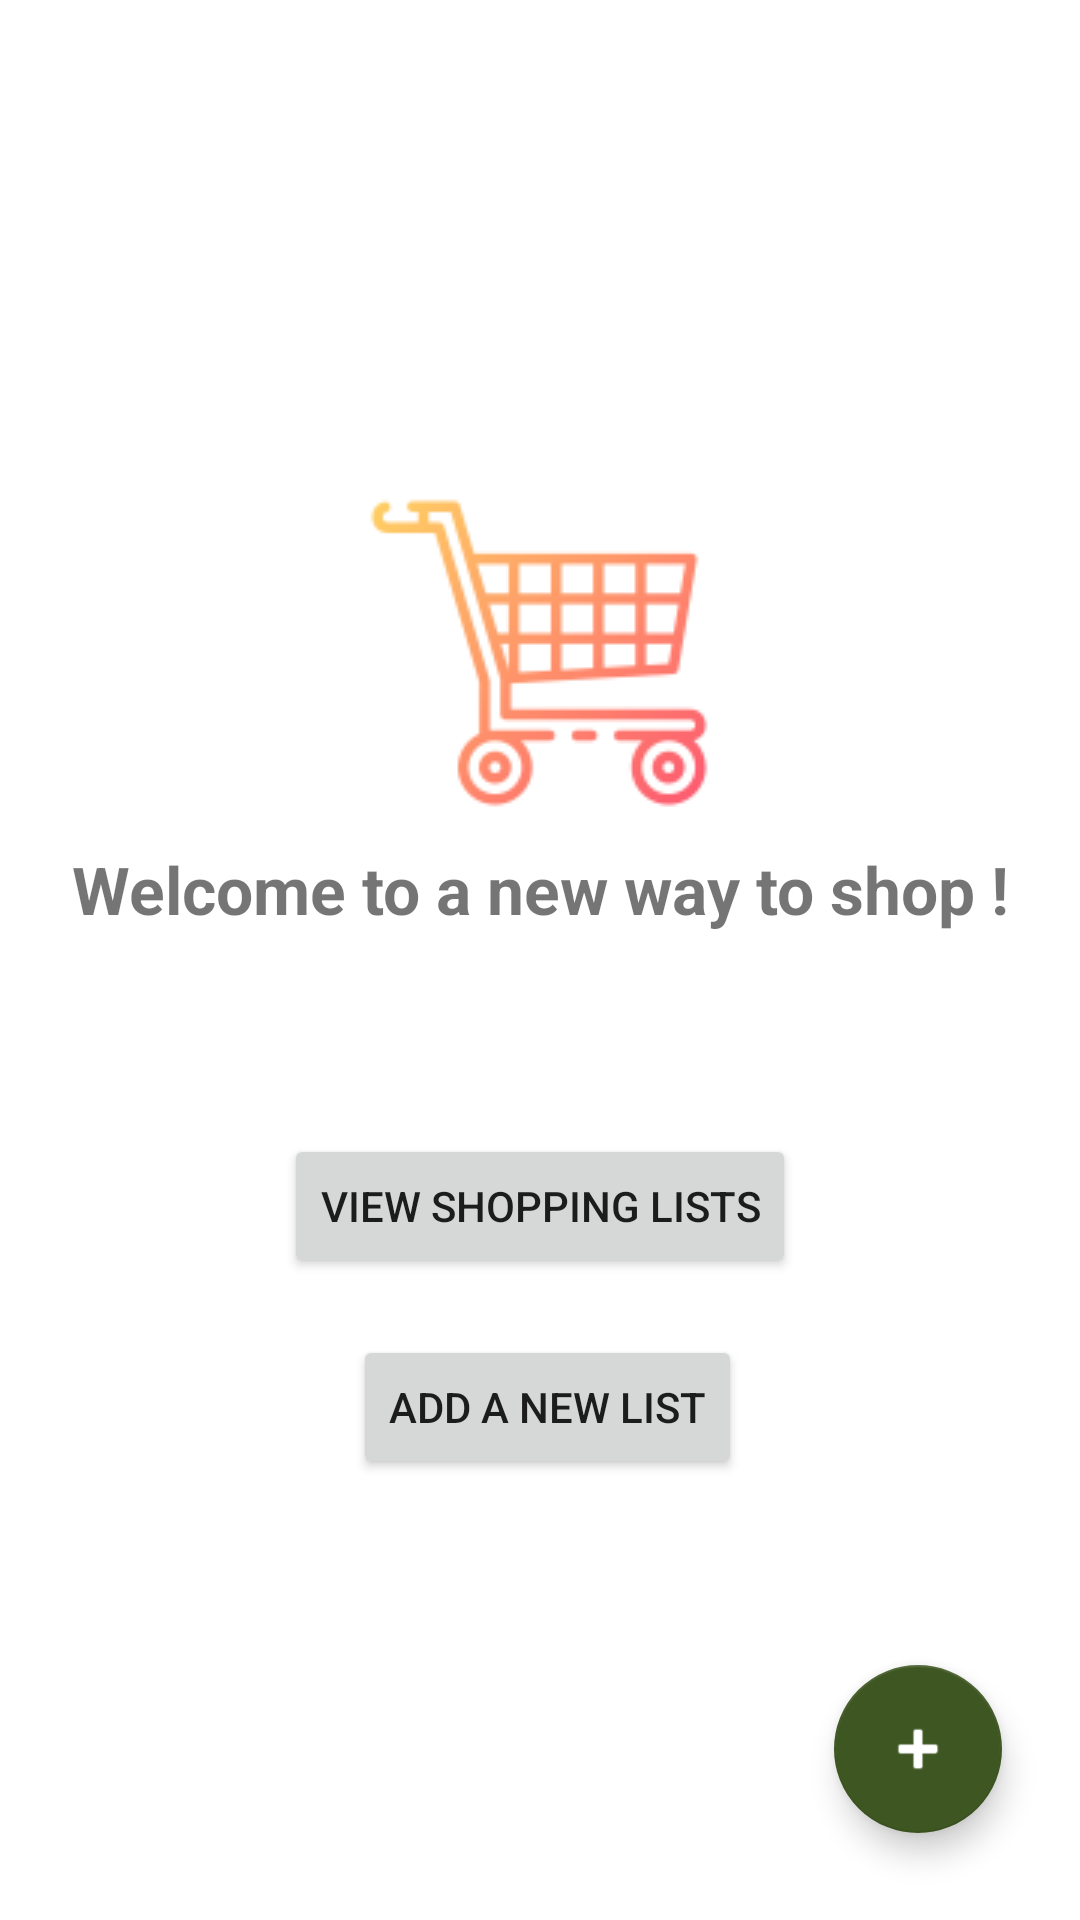

Screen size 1080px×1920px. Icon name, then its box in pixels as (x1, y1, x2, y2):
Add new list: (834, 1665, 1002, 1833)
caddie: (370, 499, 708, 807)
